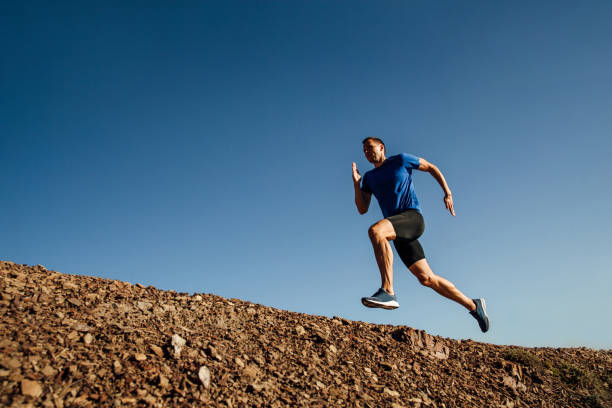Male: (347, 136, 495, 335)
